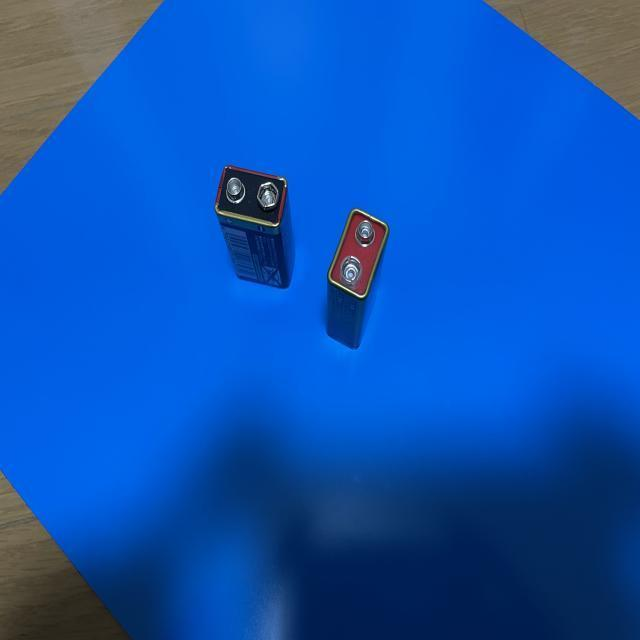9V: (214, 161, 296, 289), (325, 209, 390, 350)
